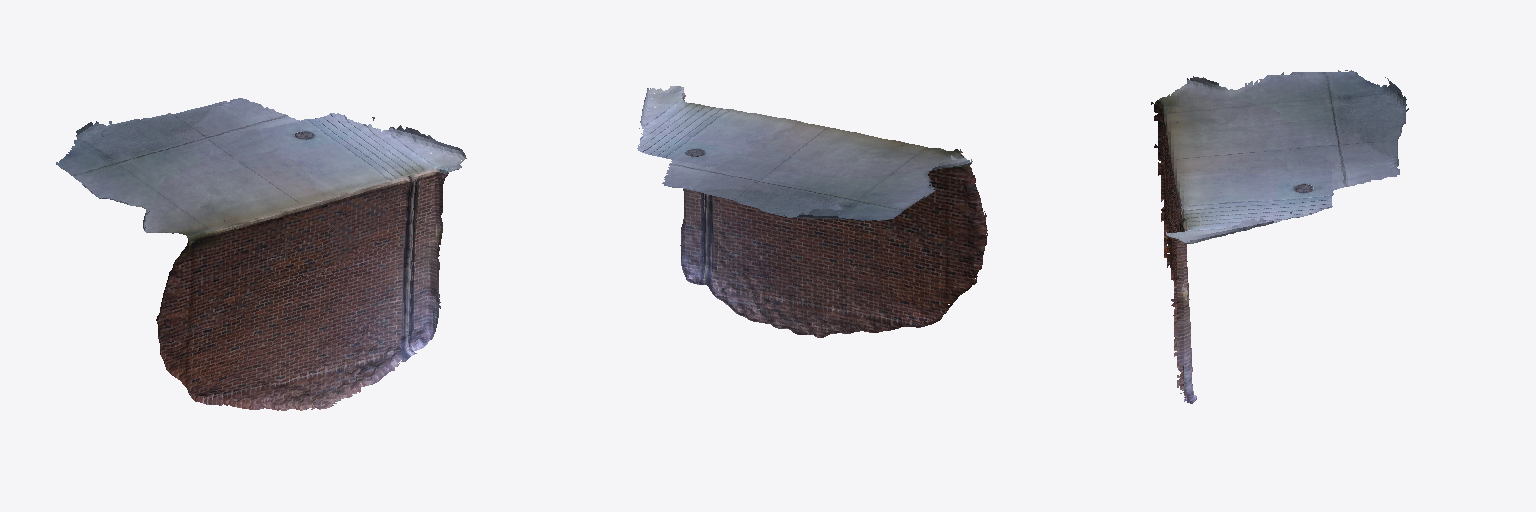
The picture shows the model from 3 angles: view 1: azimuth 30°, elevation 25°; view 2: azimuth 150°, elevation 25°; view 3: azimuth 270°, elevation 25°; orthographic projection.
Size of the model in its own units: 6.98 by 4.87 by 4.74.
1 materials, 1 textured.